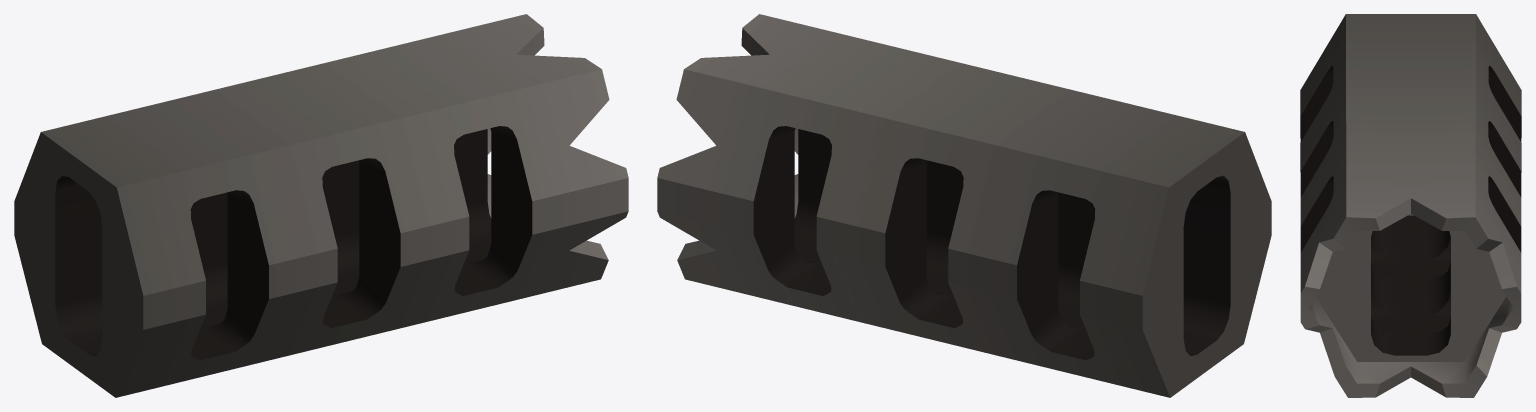
Rendered from Muzzle_Caliber2_01.fbx.
The picture shows the model from 3 angles, left to right: view 1: azimuth 30°, elevation 25°; view 2: azimuth 150°, elevation 25°; view 3: azimuth 270°, elevation 25°; orthographic projection. The views are drawn at different scales.
Parts seen in each view (by area): view 1: Muzzle_Caliber2_01; view 2: Muzzle_Caliber2_01; view 3: Muzzle_Caliber2_01.
Boxes of the visible parts, x1,y1,x2,y2 form: Muzzle_Caliber2_01: (14,14,628,397); Muzzle_Caliber2_01: (657,14,1271,397); Muzzle_Caliber2_01: (1300,14,1521,397).
Bounding box in the file's own units: 15.94 × 6.63 × 7.34.
